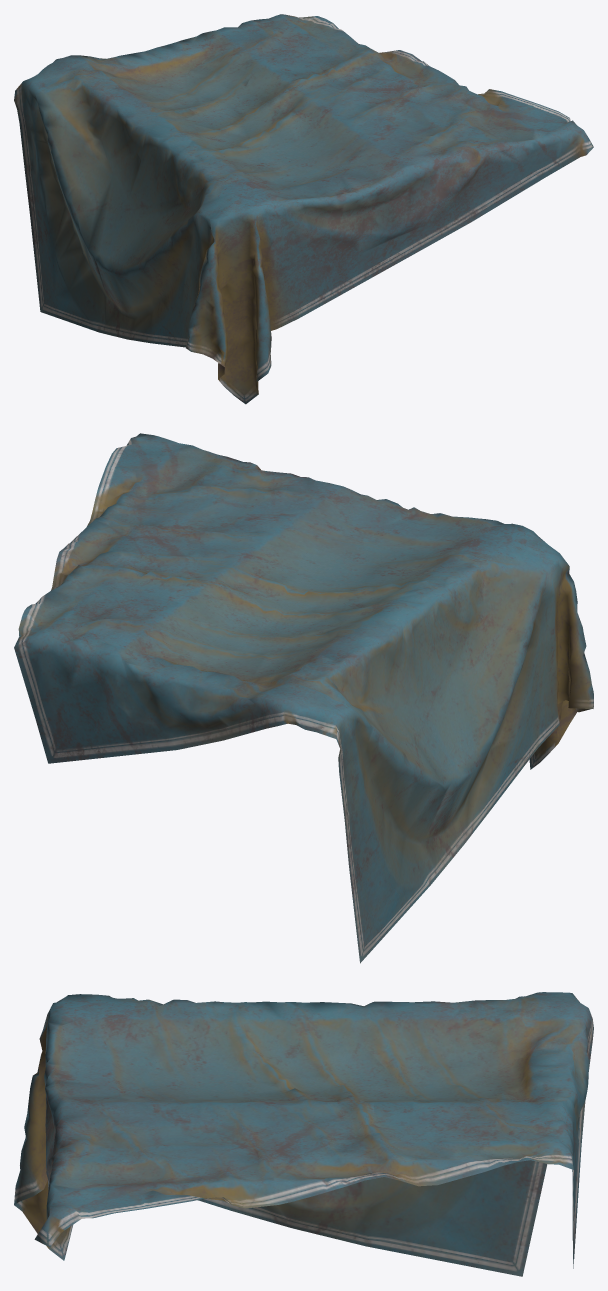
Rendered from SM_Fabric02.FBX.
The picture shows the model from 3 angles, top to bottom: view 1: azimuth 30°, elevation 25°; view 2: azimuth 150°, elevation 25°; view 3: azimuth 270°, elevation 25°; orthographic projection. The views are drawn at different scales.
Visible parts, largest first — view 1: SM_Fabric02; view 2: SM_Fabric02; view 3: SM_Fabric02.
Boxes of the visible parts, <box> form: SM_Fabric02: <box>14,14,593,404</box>; SM_Fabric02: <box>14,433,593,963</box>; SM_Fabric02: <box>14,992,593,1276</box>.
Size of the model in its own units: 365 by 349 by 201.
